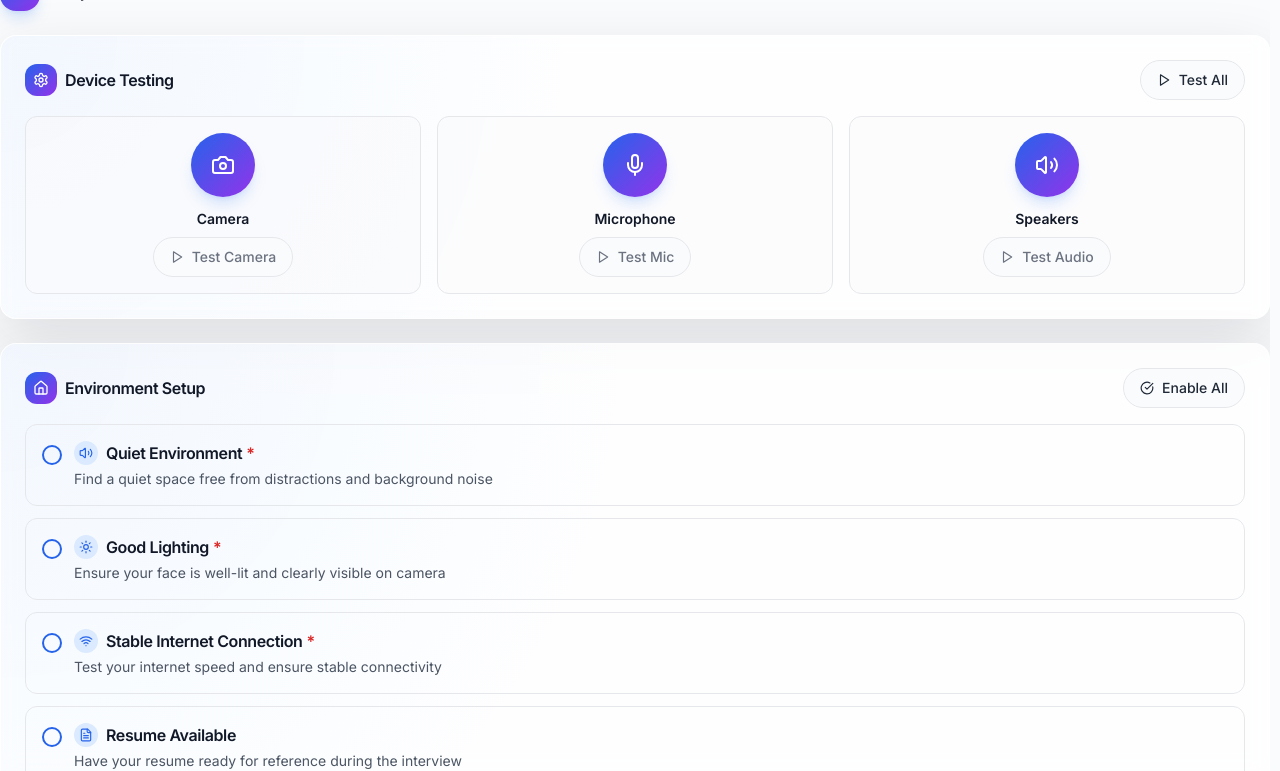
Test: PreparationChecklist › allows interview start once required environment checks are complete even before device tests run
Click the button "Enable All". click: click(1184, 388)
box: [1123,368,1245,408]
(page scrolled)
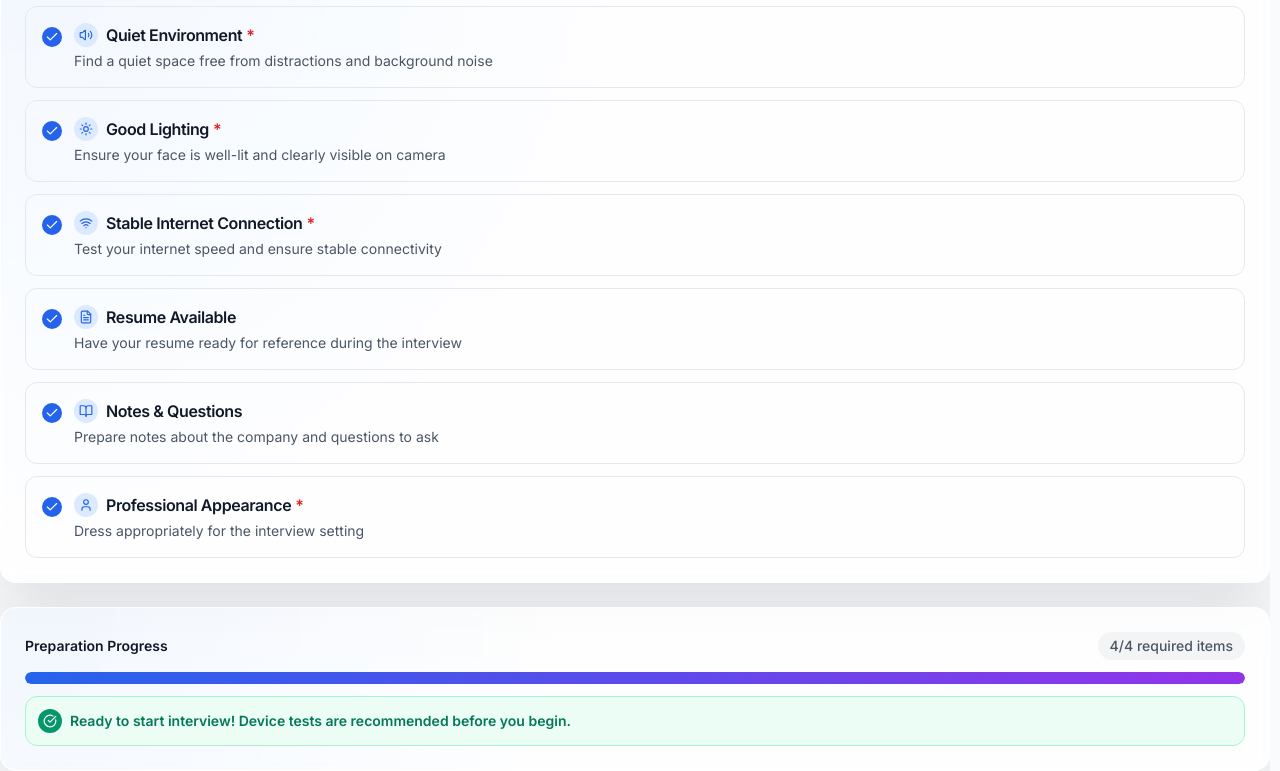
Expected: the text "Device tests are recommended before you begin" is shown, [70,712,571,729]
